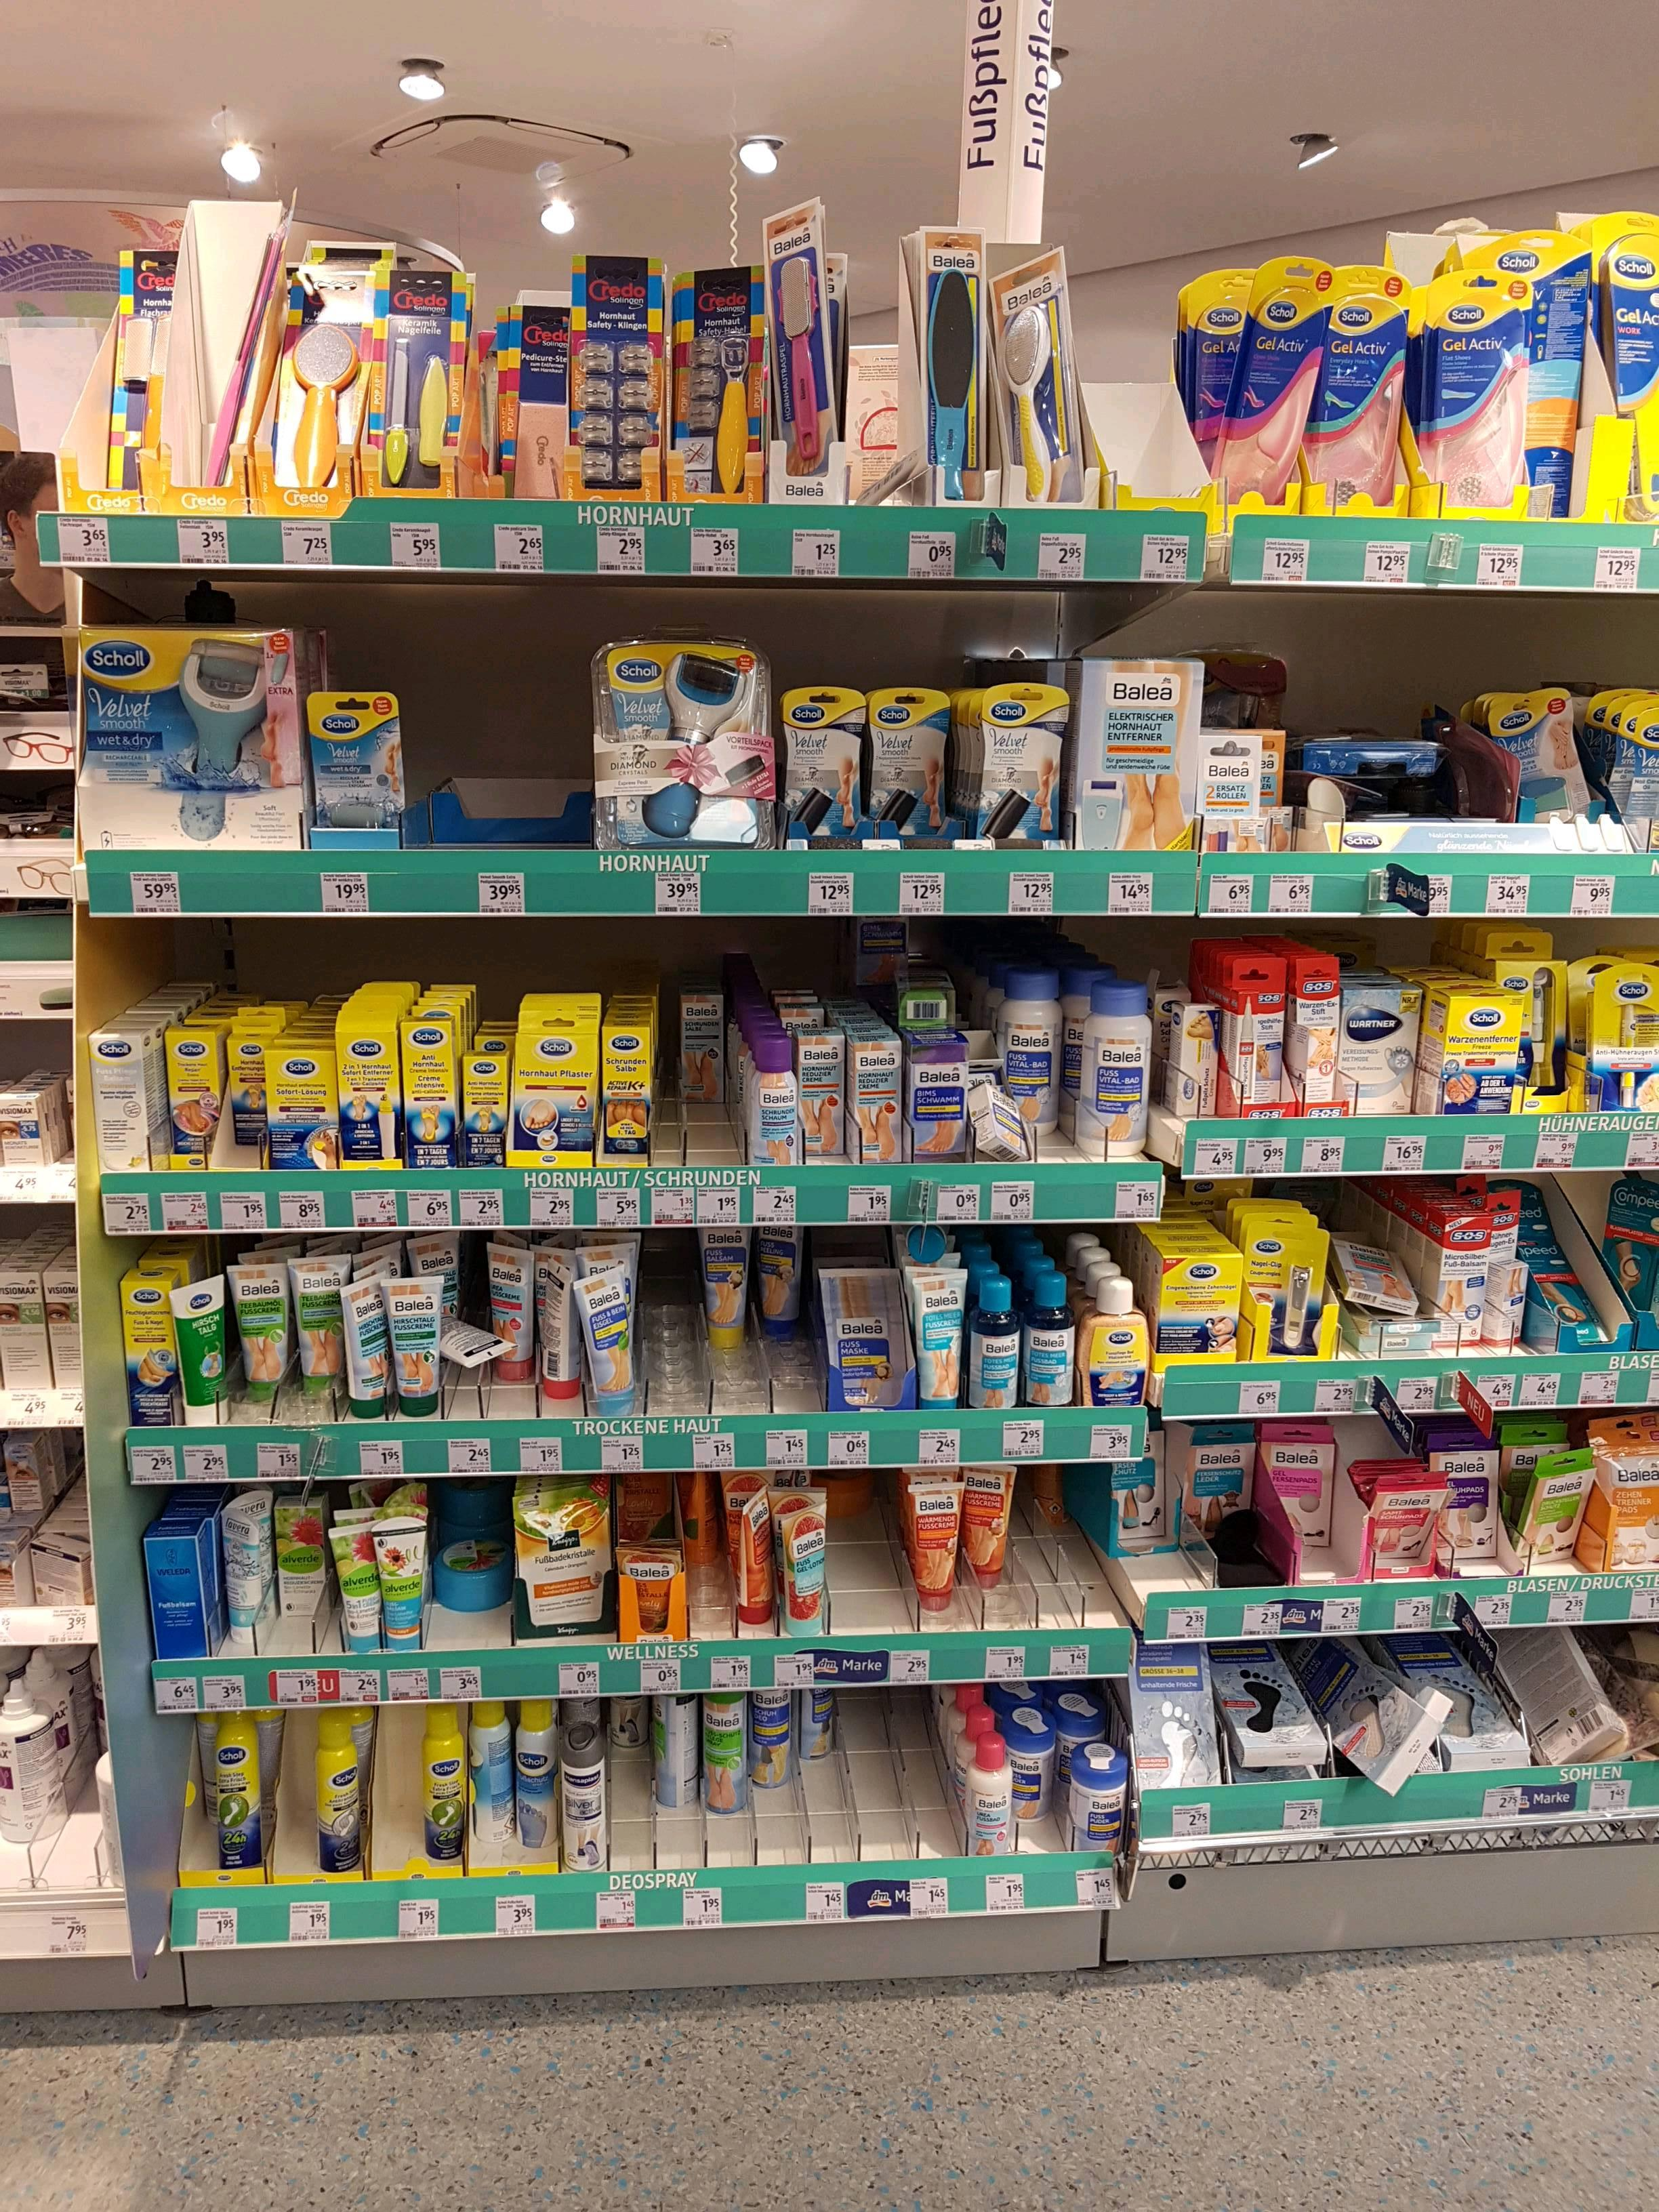misalignment: (1295, 1635, 1450, 1803), (1523, 1630, 1617, 1773), (1359, 1460, 1453, 1585), (1324, 1224, 1422, 1320), (329, 1273, 394, 1411), (1516, 1447, 1586, 1564), (1600, 1179, 1657, 1310), (530, 1263, 580, 1397), (225, 1512, 270, 1649), (728, 1484, 769, 1629), (432, 1313, 518, 1379), (1486, 1242, 1530, 1353), (676, 1468, 721, 1573), (967, 1078, 1025, 1157), (854, 434, 915, 502)
